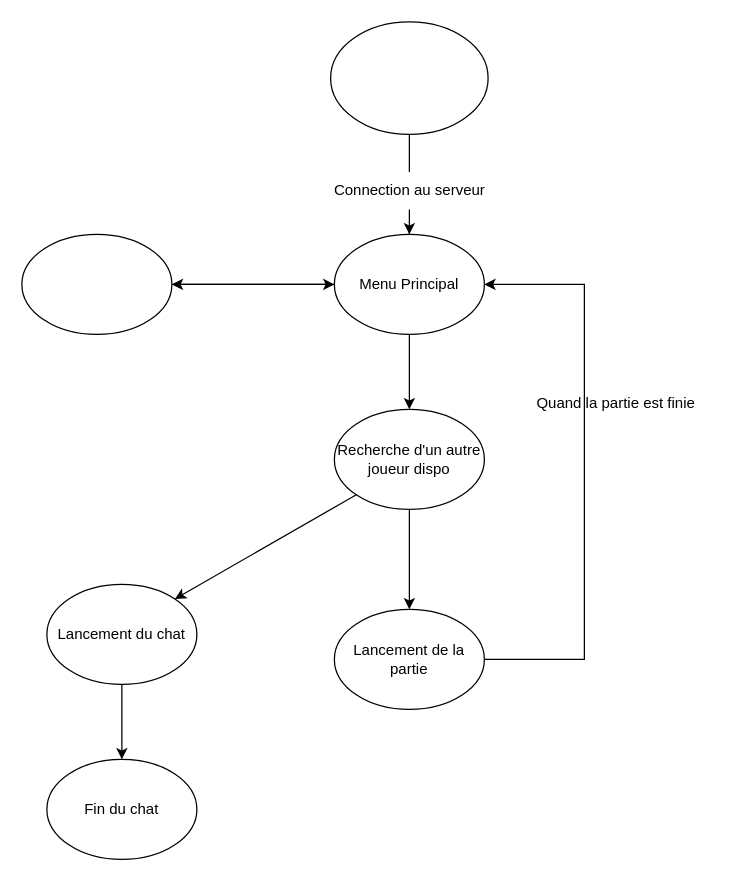
Image size: 731x881. Some labels were removed from this diagram. The centre of each missing label's shape, as x and y in pixels:
Inscription si pas de compte existant: [96,283]
Lancement du Client: [408,77]
